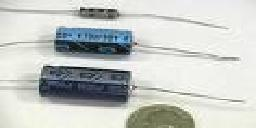Electrolytic Capacitor: (4, 66, 252, 105), (2, 26, 249, 60), (1, 2, 243, 23)
